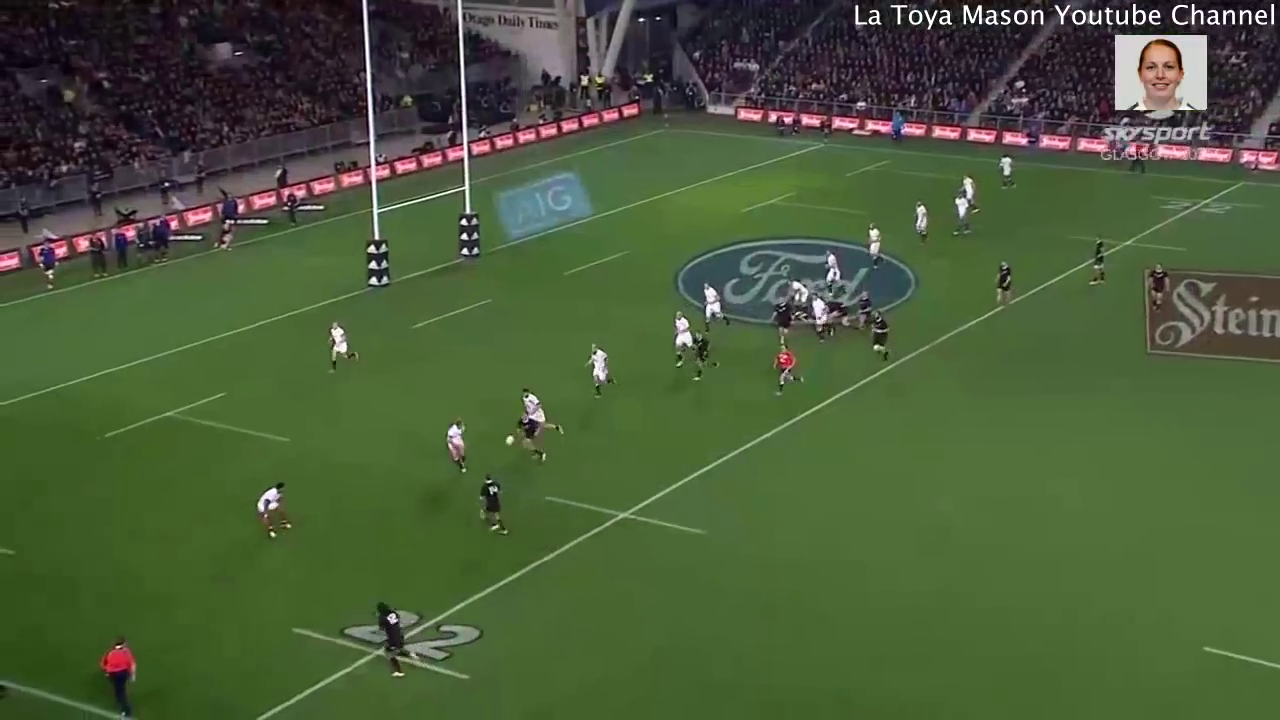ball: (500, 426, 519, 448)
player: (367, 589, 431, 688), (509, 380, 572, 450), (315, 312, 367, 378), (472, 467, 518, 540), (433, 412, 481, 479), (256, 471, 296, 547), (508, 406, 557, 468), (580, 336, 625, 402), (766, 341, 809, 399), (688, 322, 724, 385), (693, 275, 731, 333), (667, 305, 699, 372), (806, 287, 840, 348), (765, 290, 795, 347), (862, 218, 891, 273), (867, 313, 897, 362), (989, 255, 1016, 309), (819, 241, 846, 294), (910, 197, 935, 252), (953, 173, 984, 217), (853, 287, 881, 334), (783, 265, 809, 315), (951, 191, 976, 243), (994, 150, 1020, 196)
post: (353, 1, 489, 299)
